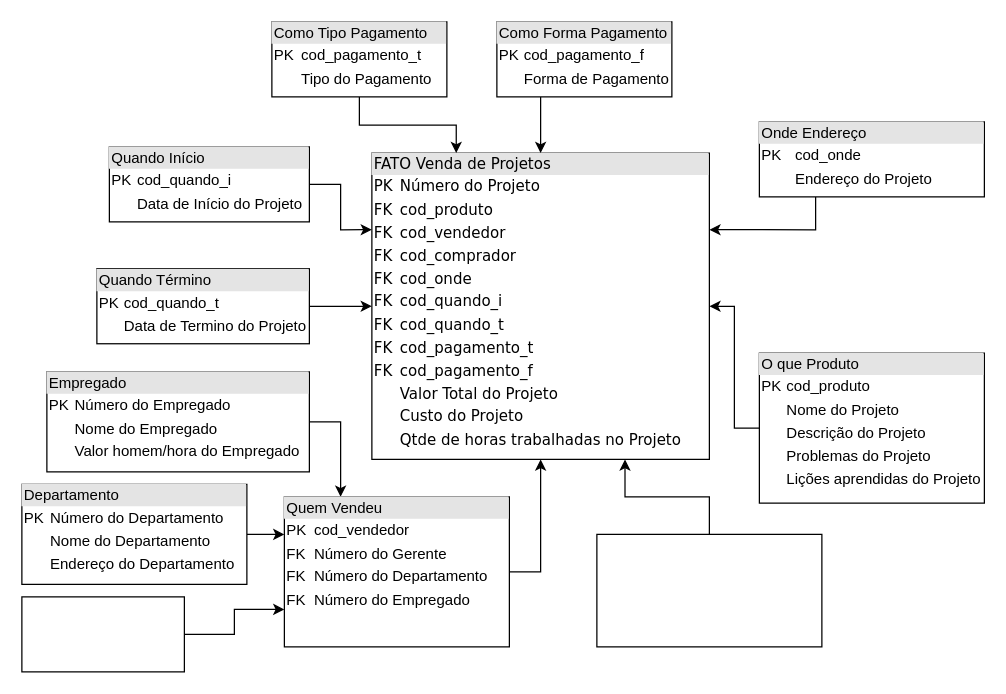
Some shapes in this 1006 by 694 pixel diagram are drawn without their labels. The centre of each missing label's shape, as x and y in pixels:
"Gerente PK Número do Gerente Nome do Gerente" goes at (102,634).
"Quem Comprou PK cod_comprador Endereço do Cliente Nome do Cliente" goes at (709,590).
